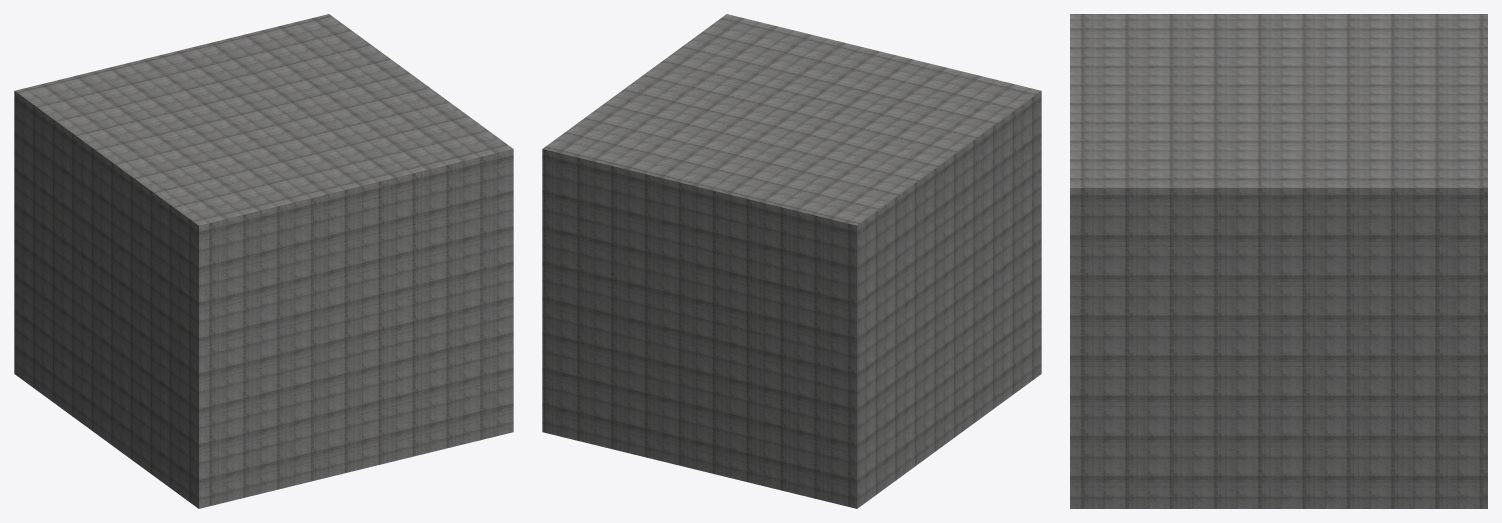
The model's file is SM_LDFest_05_01.001.fbx.
3 views of the same model, side by side, from view 1: azimuth 30°, elevation 25°; view 2: azimuth 150°, elevation 25°; view 3: azimuth 270°, elevation 25° (orthographic). The views are drawn at different scales.
Parts seen in each view (by area): view 1: SM_LDFest_05_01.001; view 2: SM_LDFest_05_01.001; view 3: SM_LDFest_05_01.001.
Boxes of the visible parts, x1,y1,x2,y2 form: SM_LDFest_05_01.001: [14, 14, 513, 508]; SM_LDFest_05_01.001: [542, 14, 1041, 508]; SM_LDFest_05_01.001: [1070, 14, 1487, 508].
Bounding box in the file's own units: 6628 × 5701 × 6725.
